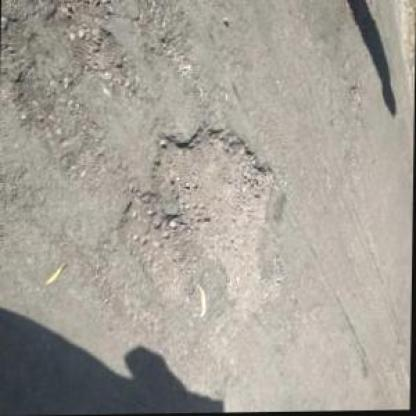pothole: (114, 124, 286, 338)
